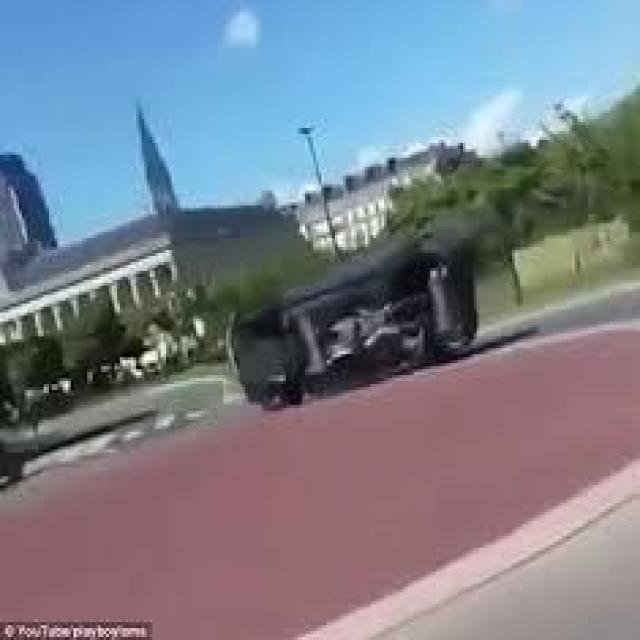severe: (212, 235, 485, 408)
